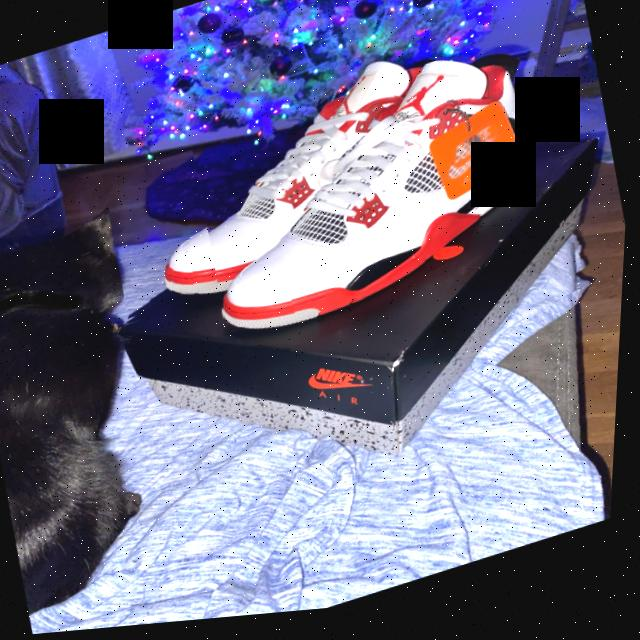shoe: (183, 37, 578, 350), (98, 63, 523, 324)
